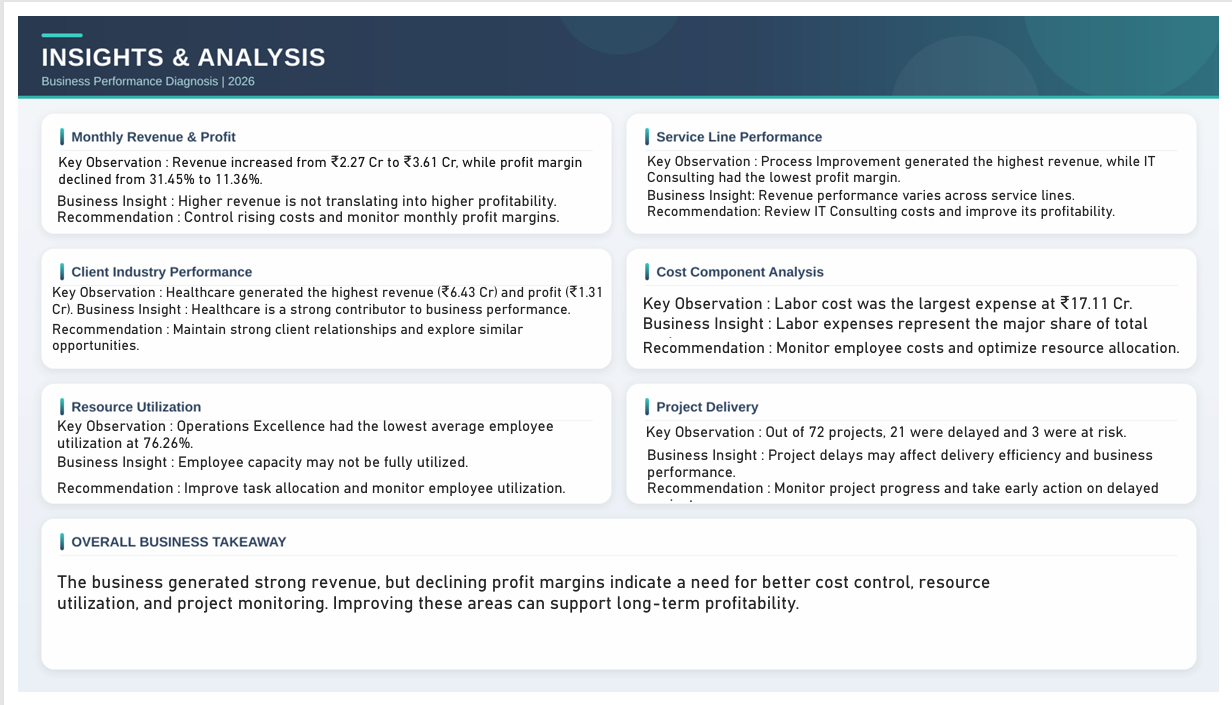

This screenshot's page, from the dashboard's own definition file:
{"tool":"powerbi","page":{"name":"Insights & Analysis","canvas":[1920,1080],"ordinal":2},"visuals":[{"type":"textbox","box":[9.2,209.8,281.6,69.9],"z":0},{"type":"textbox","title":"Key Observation   :   Revenue increased from ₹2.27 Cr to ₹3.61 Cr, while profit margin declined from 31.45% to 11.36%.","box":[62.6,217.2,877.9,55.2],"z":1},{"type":"textbox","title":"Business Insight  :  Higher revenue is not translating into higher profitability.","box":[60.7,279.8,833.7,31.3],"z":2},{"type":"textbox","title":"Recommendation  :  Control rising costs and monitor monthly profit margins.","box":[60.7,305.5,861.4,33.1],"z":3},{"type":"textbox","title":"Key Observation  : Process Improvement generated the highest revenue, while IT Consulting had the lowest profit margin.","box":[1004.9,217.2,876.1,55.2],"z":4},{"type":"textbox","title":"   The business generated strong revenue, but declining profit margins indicate a need for better cost control, resource utilization, and project monitoring. Improving these areas can support long-ter","box":[60.7,887.1,1603.1,128.8],"z":5},{"type":"textbox","title":"Key Observation : Out of 72 projects, 21 were delayed and 3 were at risk.","box":[1003.1,649.7,844.8,36.8],"z":6},{"type":"textbox","title":"Business Insight   : Project delays may affect delivery efficiency and business performance.","box":[1004.9,686.5,844.8,53.4],"z":7},{"type":"textbox","title":"Recommendation :  Monitor project progress and take early action on delayed projects.","box":[1004.9,739.9,872.4,35],"z":8},{"type":"textbox","title":"Key Observation  : Operations Excellence had the lowest average employee utilization at 76.26%.","box":[60.7,640.5,861.4,58.9],"z":9},{"type":"textbox","title":"Business Insight  : Employee capacity may not be fully utilized.","box":[60.7,697.5,877.9,33.1],"z":10},{"type":"textbox","title":"Recommendation  : Improve task allocation and monitor employee utilization.","box":[60.7,739.9,861.4,35],"z":11},{"type":"textbox","title":"Key Observation : Labor cost was the largest expense at ₹17.11 Cr.                                  Business Insight : Labor expenses represent the major share of total costs.","box":[997.6,439.9,855.8,73.6],"z":12},{"type":"textbox","title":"Recommendation : Monitor employee costs and optimize resource allocation.","box":[997.6,513.5,861.4,42.3],"z":13},{"type":"textbox","title":"Key Observation : Healthcare generated the highest revenue (₹6.43 Cr) and profit (₹1.31 Cr).       Business Insight : Healthcare is a strong contributor to business performance.  ","box":[53.4,425.2,892.6,60.7],"z":14},{"type":"textbox","title":"Recommendation  :   Maintain strong client relationships and explore similar opportunities.","box":[53.4,485.9,892.6,55.2],"z":15},{"type":"textbox","title":"Business Insight: Revenue performance varies across service lines.  Recommendation: Review IT Consulting costs and improve its profitability.","box":[1004.9,272.4,854,64.4],"z":16}]}

Visuals, with their boxes in screenshot pixels (x1, y1, x2, y2), scaled from the page's 1920x1080 canvas onto the 1232x705 screenshot:
textbox: <region>6, 137, 187, 183</region>
"Key Observation   :   Revenue increased from ₹2.27 Cr to ₹3.61 Cr, while profit margin declined from 31.45% to 11.36%." textbox: <region>40, 142, 603, 178</region>
"Business Insight  :  Higher revenue is not translating into higher profitability." textbox: <region>39, 183, 574, 203</region>
"Recommendation  :  Control rising costs and monitor monthly profit margins." textbox: <region>39, 199, 592, 221</region>
"Key Observation  : Process Improvement generated the highest revenue, while IT Consulting had the lowest profit margin." textbox: <region>645, 142, 1207, 178</region>
"   The business generated strong revenue, but declining profit margins indicate a need for better cost control, resource utilization, and project monitoring. Improving these areas can support long-ter" textbox: <region>39, 579, 1068, 663</region>
"Key Observation : Out of 72 projects, 21 were delayed and 3 were at risk." textbox: <region>644, 424, 1186, 448</region>
"Business Insight   : Project delays may affect delivery efficiency and business performance." textbox: <region>645, 448, 1187, 483</region>
"Recommendation :  Monitor project progress and take early action on delayed projects." textbox: <region>645, 483, 1205, 506</region>
"Key Observation  : Operations Excellence had the lowest average employee utilization at 76.26%." textbox: <region>39, 418, 592, 457</region>
"Business Insight  : Employee capacity may not be fully utilized." textbox: <region>39, 455, 602, 477</region>
"Recommendation  : Improve task allocation and monitor employee utilization." textbox: <region>39, 483, 592, 506</region>
"Key Observation : Labor cost was the largest expense at ₹17.11 Cr.                                  Business Insight : Labor expenses represent the major share of total costs." textbox: <region>640, 287, 1189, 335</region>
"Recommendation : Monitor employee costs and optimize resource allocation." textbox: <region>640, 335, 1193, 363</region>
"Key Observation : Healthcare generated the highest revenue (₹6.43 Cr) and profit (₹1.31 Cr).       Business Insight : Healthcare is a strong contributor to business performance.  " textbox: <region>34, 278, 607, 317</region>
"Recommendation  :   Maintain strong client relationships and explore similar opportunities." textbox: <region>34, 317, 607, 353</region>
"Business Insight: Revenue performance varies across service lines.  Recommendation: Review IT Consulting costs and improve its profitability." textbox: <region>645, 178, 1193, 220</region>
